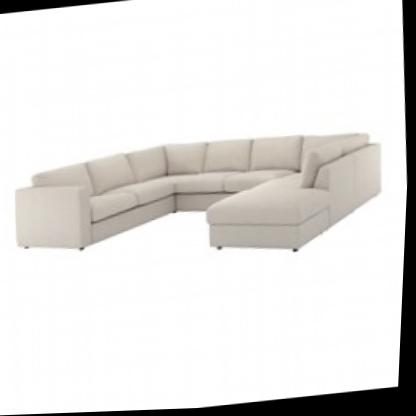Sofa: (3, 105, 395, 304)
